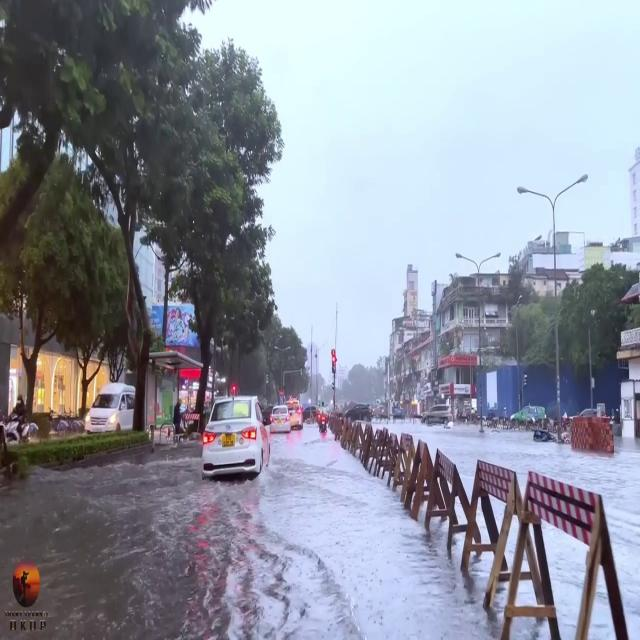bien_vang: (222, 434, 235, 447)
